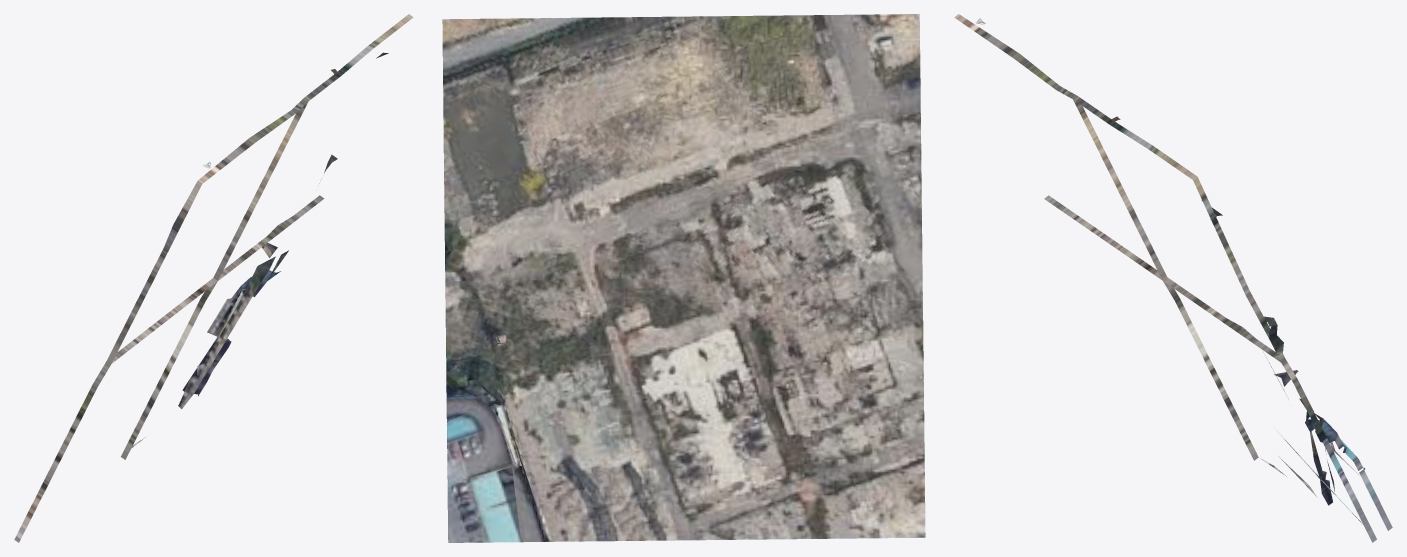
3 renders of one model, left to right at view 1: azimuth 30°, elevation 25°; view 2: azimuth 150°, elevation 25°; view 3: azimuth 270°, elevation 25°, orthographic. The views are drawn at different scales.
Size of the model in its own units: 153 by 140 by 134.
1 material, 1 textured.
